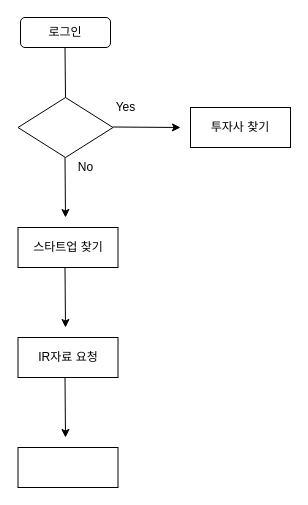
The diagram is 308 pixels wide and 505 high, and some of its shapes have lost their labels. Here are the shapes that lost their labels. From the top down, the box of each, then its label:
(17, 96, 113, 158): 기업회원인가?
(17, 446, 118, 488): 채팅
